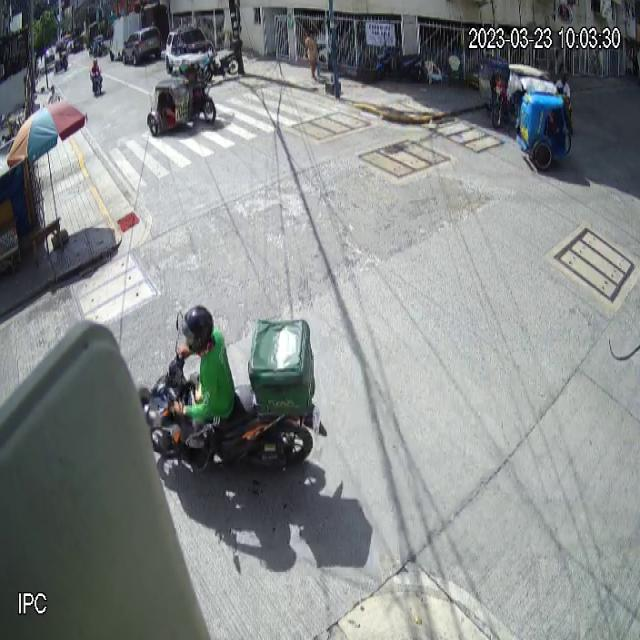Motorcycle: (148, 308, 328, 472)
Tricycle: (508, 63, 572, 171), (147, 53, 216, 137)
